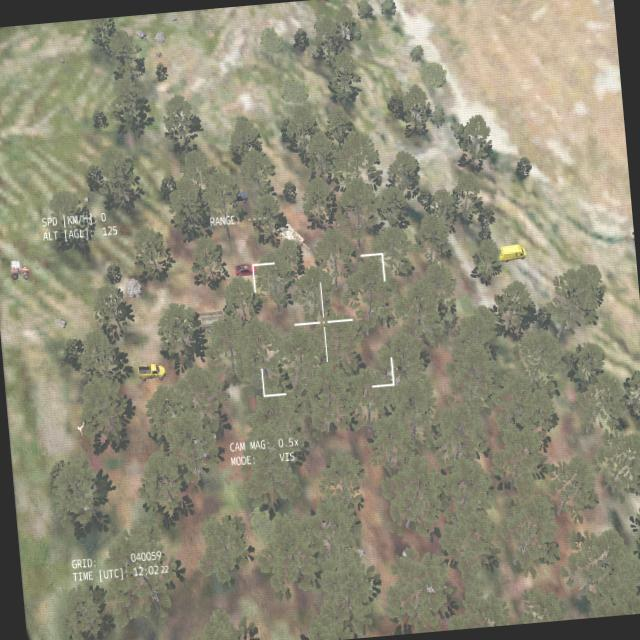car: (494, 238, 530, 266), (136, 361, 168, 383), (222, 186, 252, 205), (232, 260, 260, 279)
tank: (274, 220, 310, 256)
truck: (198, 307, 242, 337)
